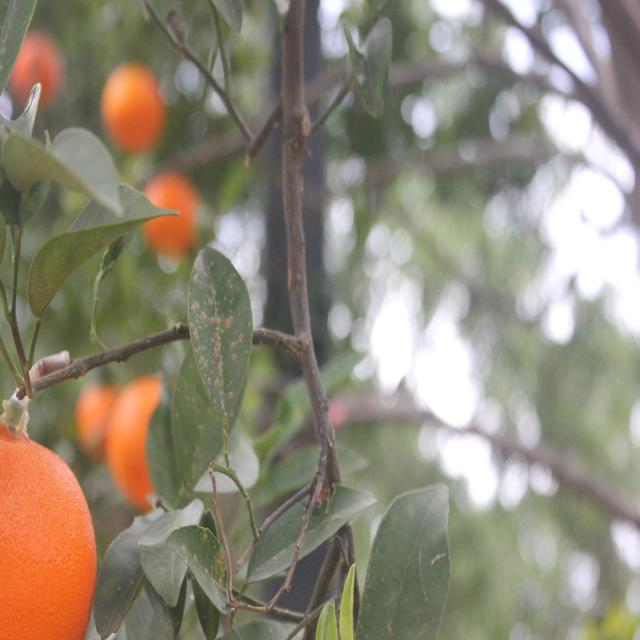canker: (186, 255, 257, 420), (179, 530, 227, 593)
